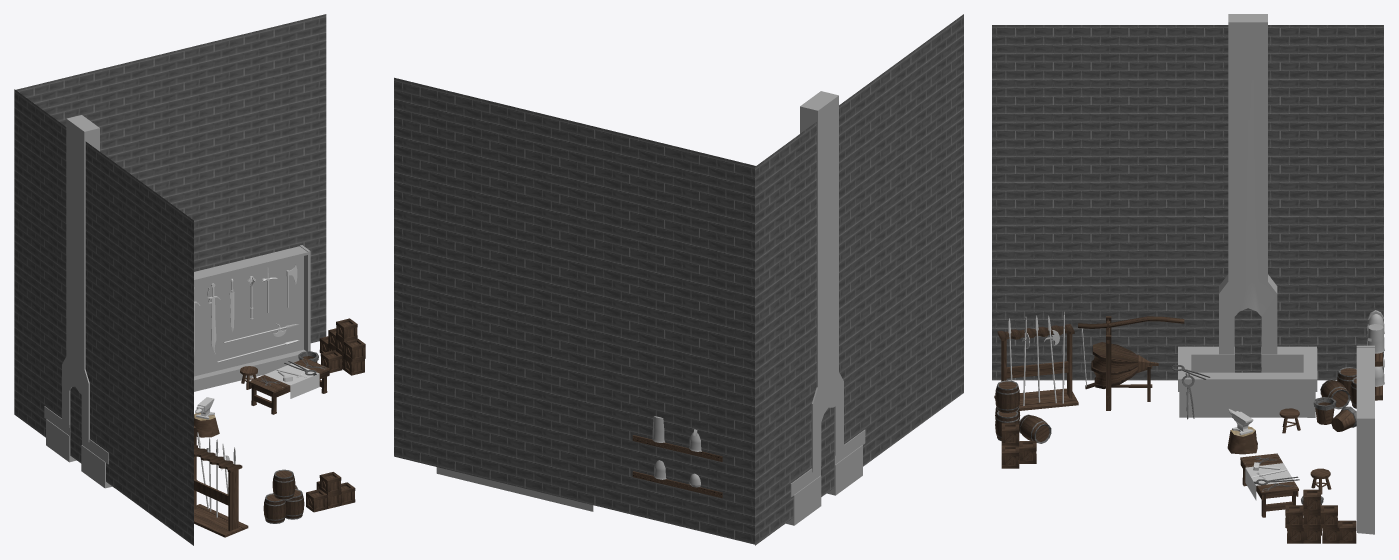
Rendered from Blacksmith.fbx.
3 renders of one model, left to right at view 1: azimuth 30°, elevation 25°; view 2: azimuth 150°, elevation 25°; view 3: azimuth 270°, elevation 25°, orthographic. The views are drawn at different scales.
Visible parts, largest first — view 1: pPlane7, pPlane3, pPlane4, pCube5, polySurface4, polySurface11, polySurface8, pPlane5, polySurface6, polySurface9, polySurface47, Barrel2 (+8 smaller); view 2: pPlane3, pPlane7, pCube5, polySurface11, pPlane4, polySurface19; view 3: pPlane7, pCube5, polySurface19, polySurface11, polySurface4, polySurface9, polySurface8, polySurface120, pPlane5, polySurface47, Barrel2, Barrel6 (+5 smaller).
Part boxes in pixels (box(x1,y1,x2,y2)): pPlane7: box(14, 89, 193, 545); pPlane3: box(16, 14, 326, 343); pPlane4: box(194, 256, 303, 391); pCube5: box(62, 115, 99, 442); polySurface4: box(194, 444, 248, 537); polySurface11: box(46, 419, 112, 488); polySurface8: box(194, 246, 308, 282); pPlane5: box(264, 363, 319, 398); polySurface6: box(194, 349, 306, 382); polySurface9: box(300, 245, 310, 351); polySurface47: box(248, 358, 329, 393); Barrel2: box(272, 469, 295, 500); pPlane3: box(394, 77, 755, 544); pPlane7: box(755, 14, 963, 545); pCube5: box(800, 91, 843, 472); polySurface11: box(785, 445, 862, 525); pPlane4: box(436, 467, 593, 511); polySurface19: box(790, 429, 865, 497); pPlane7: box(992, 25, 1383, 380); pCube5: box(1219, 14, 1277, 354); polySurface19: box(1178, 346, 1317, 391); polySurface11: box(1179, 367, 1315, 417); polySurface4: box(994, 324, 1078, 410); polySurface9: box(1356, 417, 1374, 534); polySurface8: box(1356, 347, 1374, 417); polySurface120: box(1091, 342, 1137, 374); pPlane5: box(1245, 463, 1293, 500); polySurface47: box(1240, 453, 1298, 494); Barrel2: box(995, 380, 1019, 413); Barrel6: box(1019, 414, 1051, 443).
Size of the model in its own units: 52.6 by 56.06 by 52.55.
